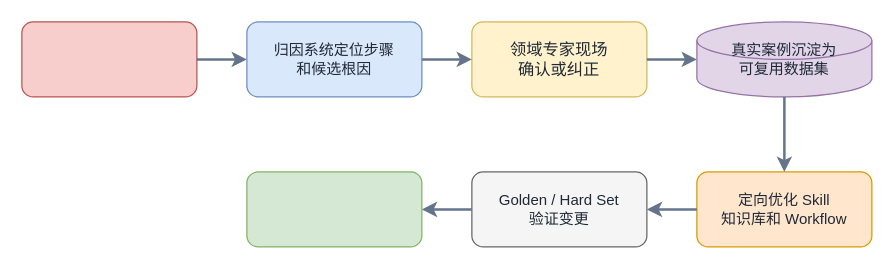
Some shapes in this 894 by 269 pixel diagram are drawn without their labels. The centre of each missing label's shape, as x and y in pixels:
人工接受后进入 下一轮真实运行: (x=334, y=209)
离线评测规则 发现问题: (x=109, y=59)
